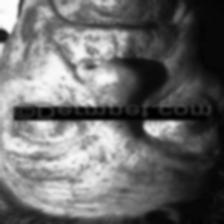Non-Cancerous Skin Condition: (23, 121, 211, 213), (14, 6, 184, 102)
